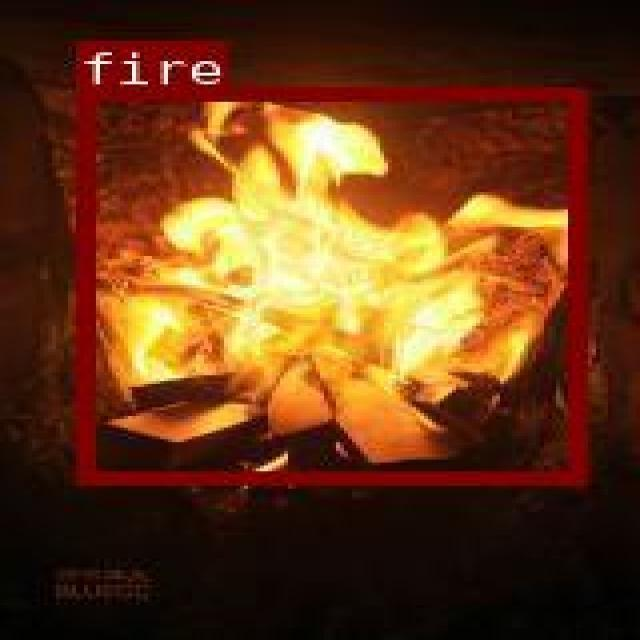fire: (75, 85, 582, 482)
